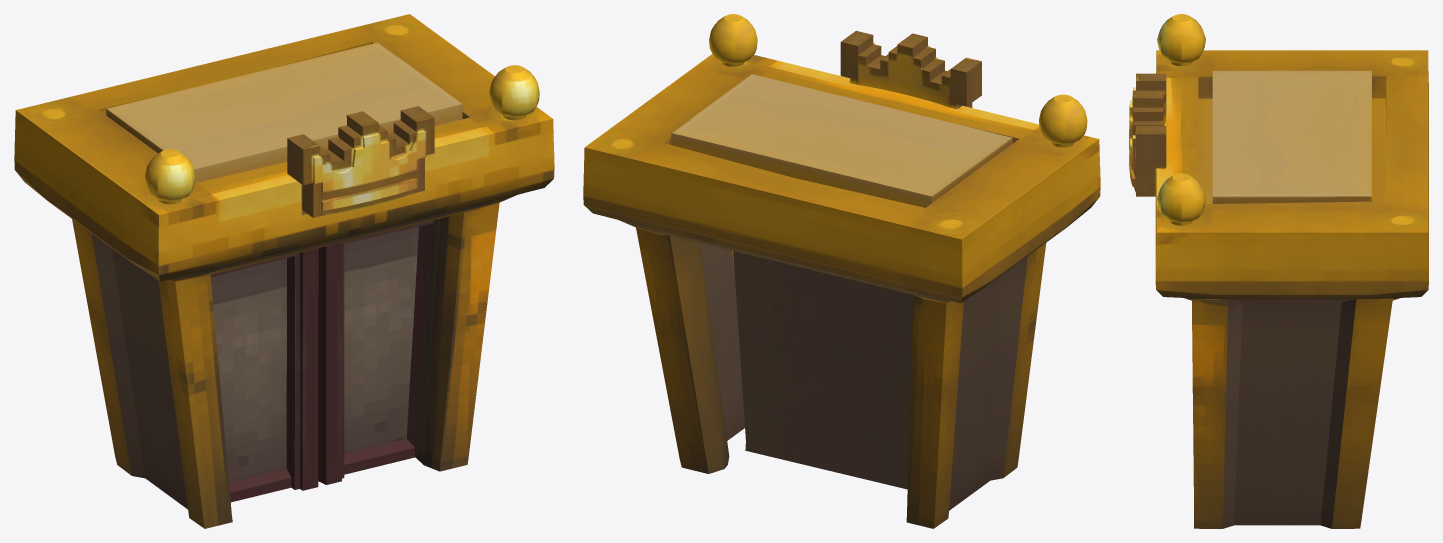
Rendered from Item_Door.fbx.
3 renders of one model, left to right at view 1: azimuth 30°, elevation 25°; view 2: azimuth 150°, elevation 25°; view 3: azimuth 270°, elevation 25°, orthographic. The views are drawn at different scales.
Parts seen in each view (by area): view 1: ItemDoor_Base, ItemDoor_Door_1, ItemDoor_Door_2; view 2: ItemDoor_Base; view 3: ItemDoor_Base.
Boxes of the visible parts, x1,y1,x2,y2 form: ItemDoor_Base: (14,14,554,528); ItemDoor_Door_1: (318,220,434,484); ItemDoor_Door_2: (210,248,318,502); ItemDoor_Base: (583,14,1100,528); ItemDoor_Base: (1129,14,1428,528).
Bounding box in the file's own units: 282 × 268 × 194.
